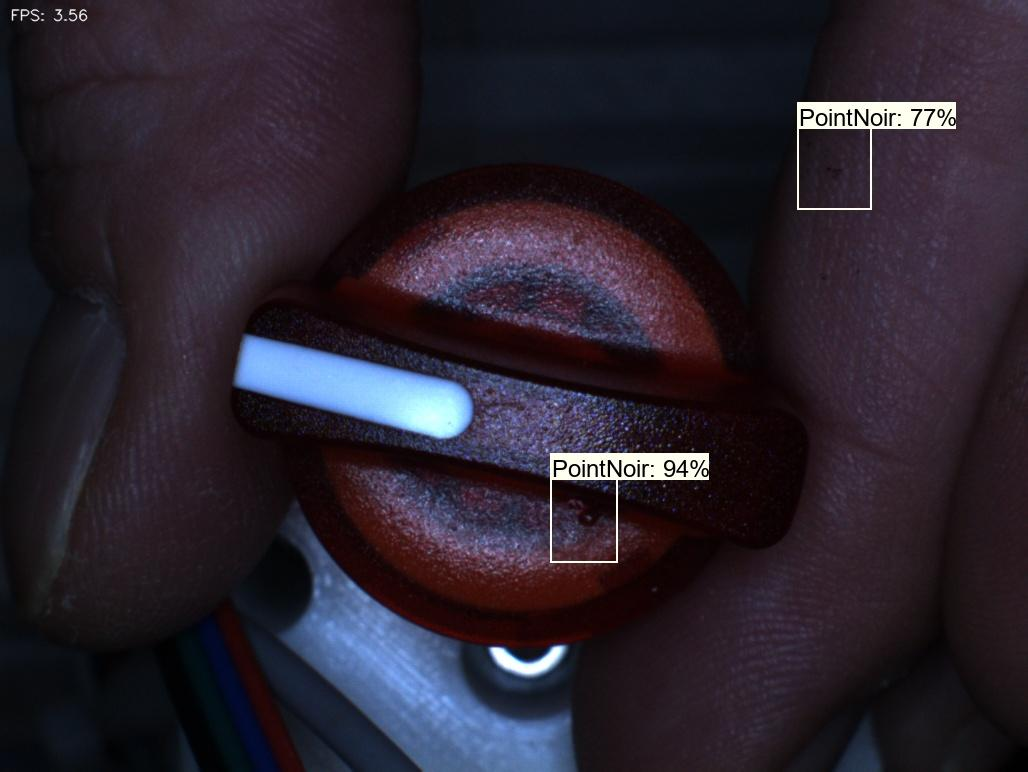Choc: (561, 493, 628, 557)
